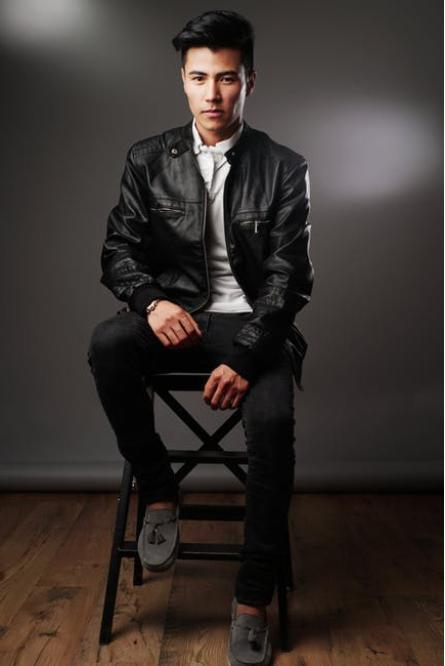face: (185, 46, 246, 130)
